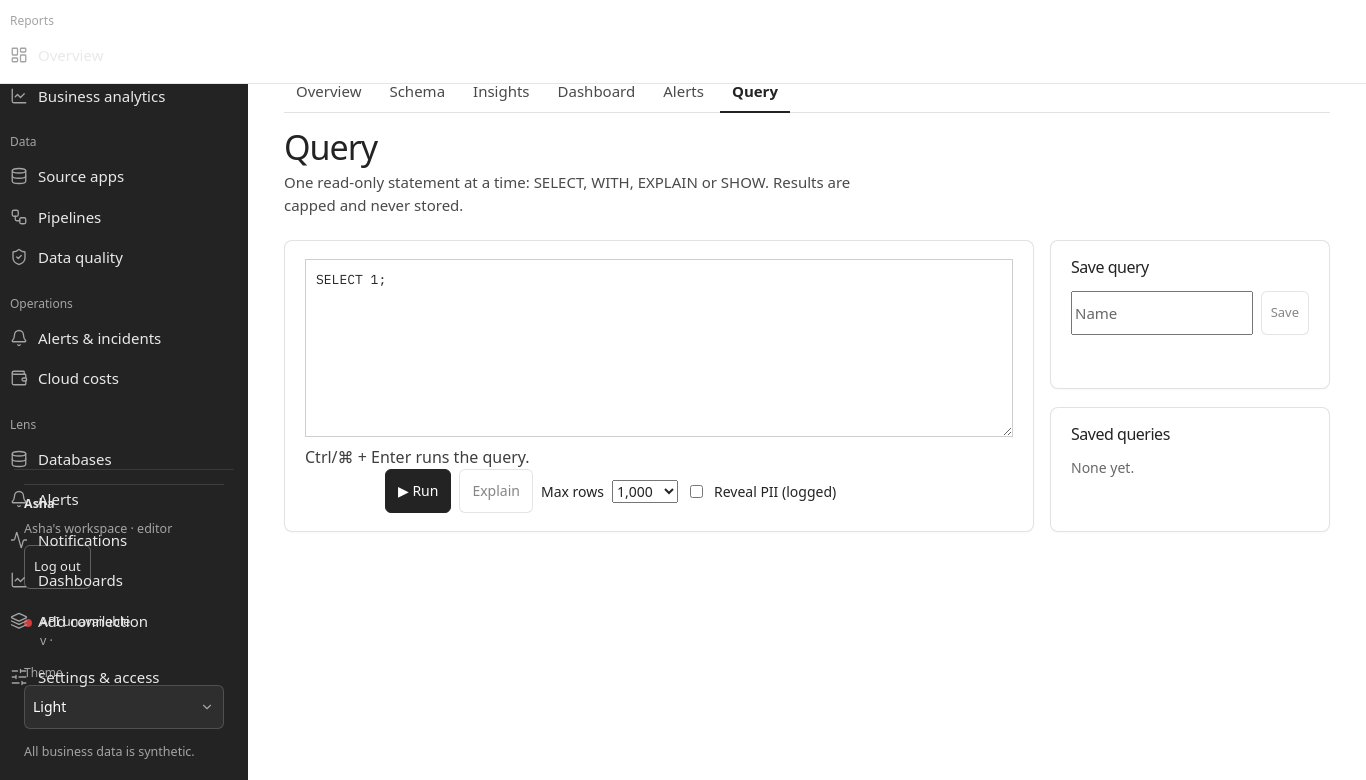
Test: Lens analytics › validates, runs a query and shows masked columns
Replace the text in the text box named "SQL" with "select id, email from shop.customers": (659, 348) [305, 259, 1013, 437]
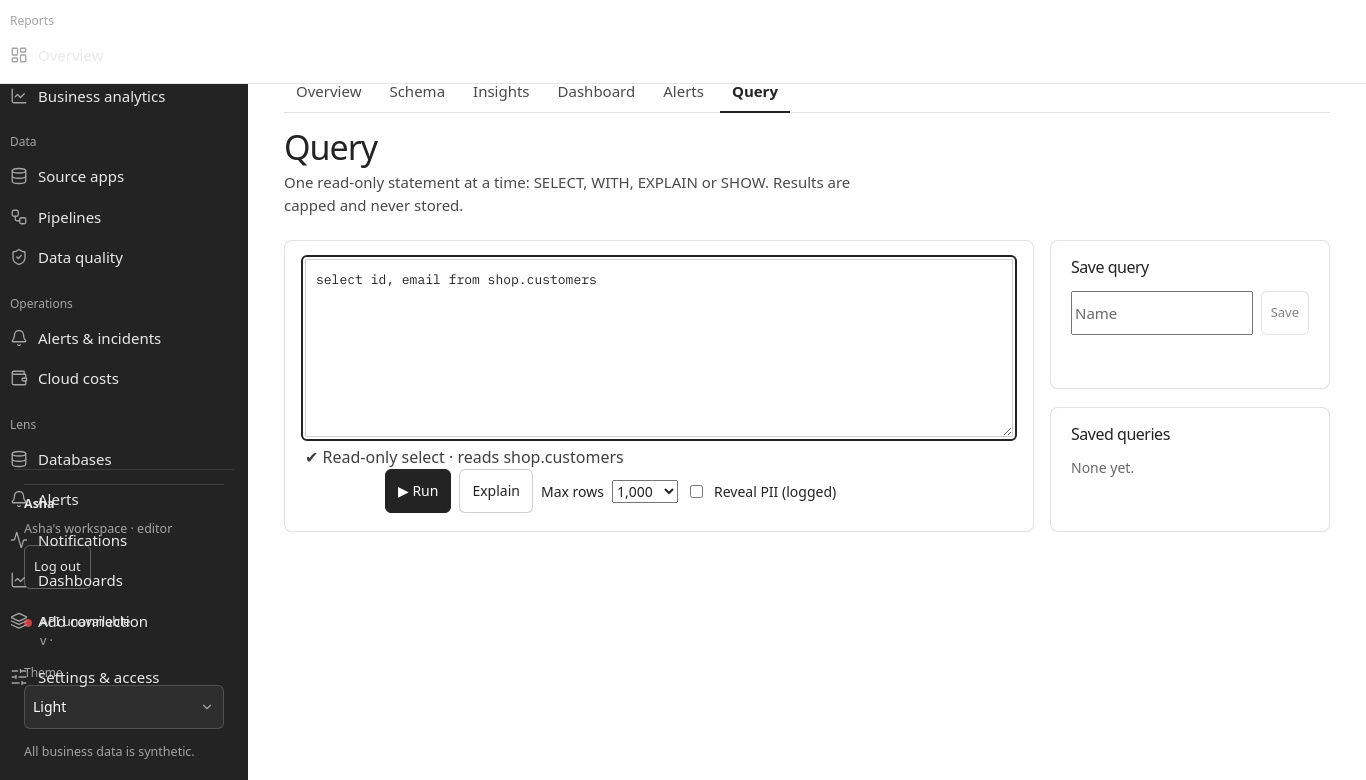
Expected: the text "✔ Read-only select · reads shop.customers" is shown, [305, 446, 624, 468]
Click the button "▶ Run": (418, 491) [385, 469, 451, 513]
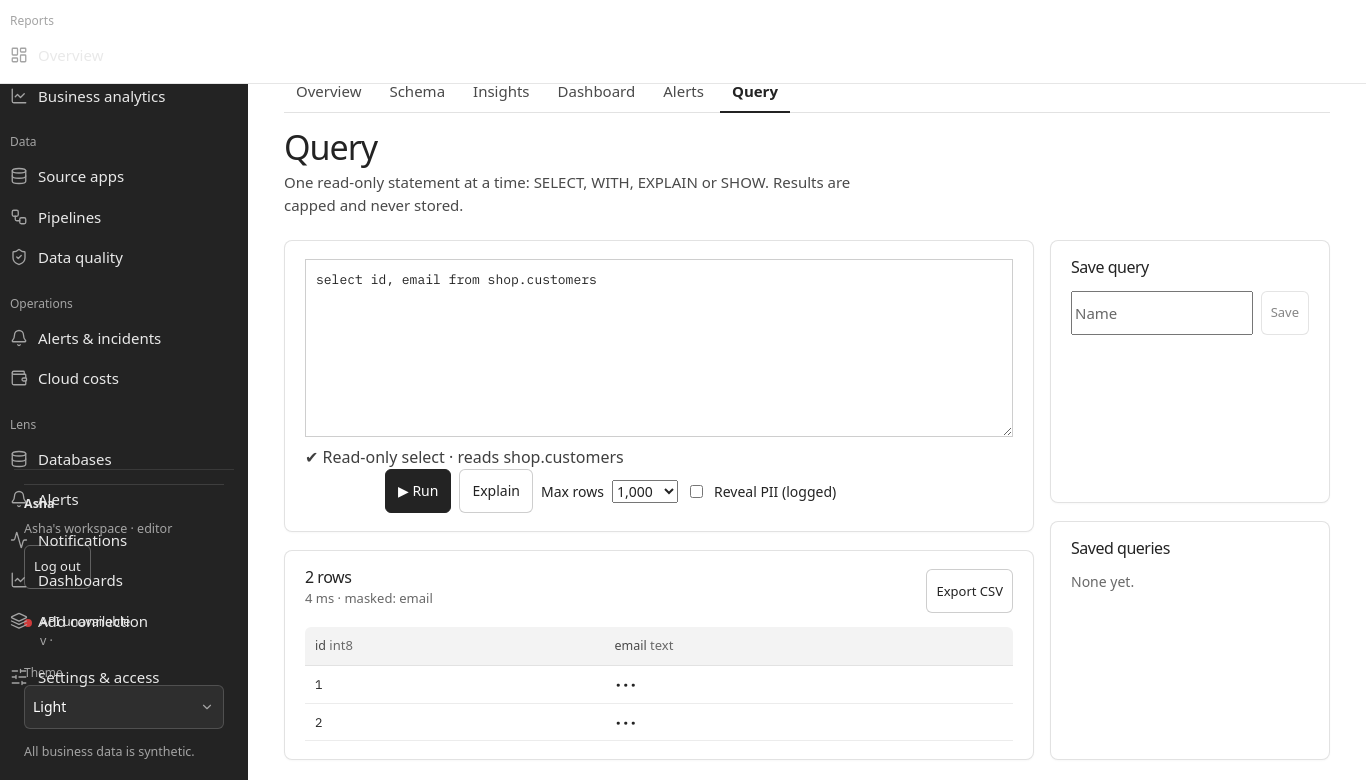
Expected: the heading "2 rows" is shown, [305, 566, 351, 588]
Expected: the text "4 ms · masked: email" is shown, [305, 589, 433, 608]
